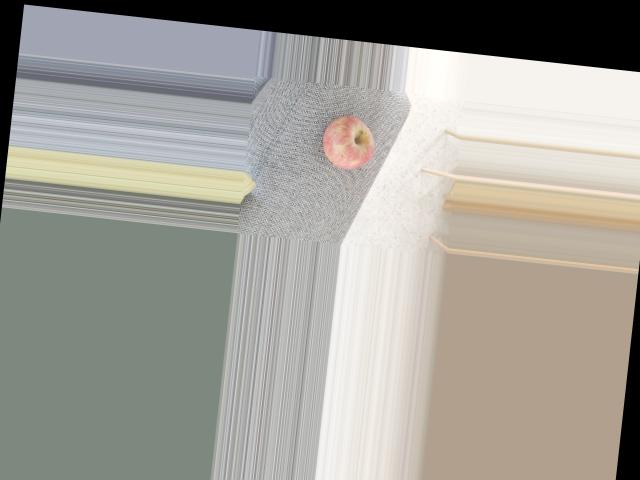apple: (315, 109, 380, 173)
